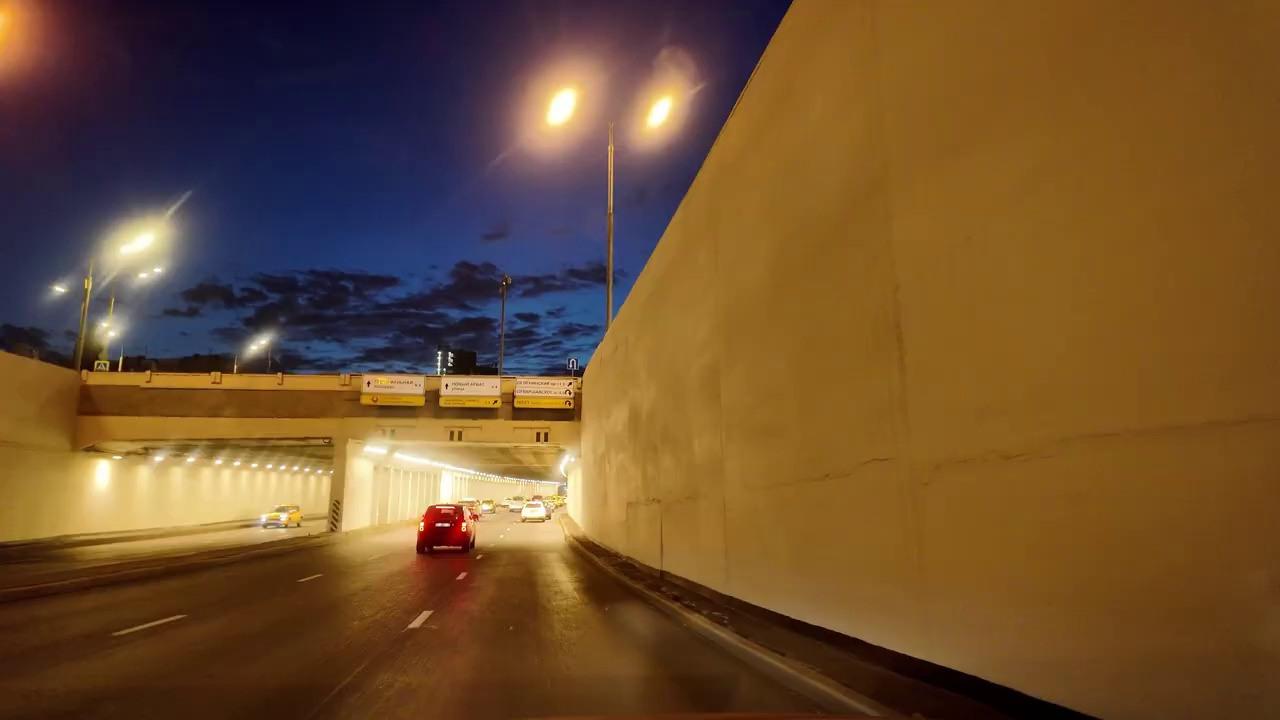acesa: (531, 74, 592, 144), (630, 78, 687, 147), (110, 221, 165, 275)
